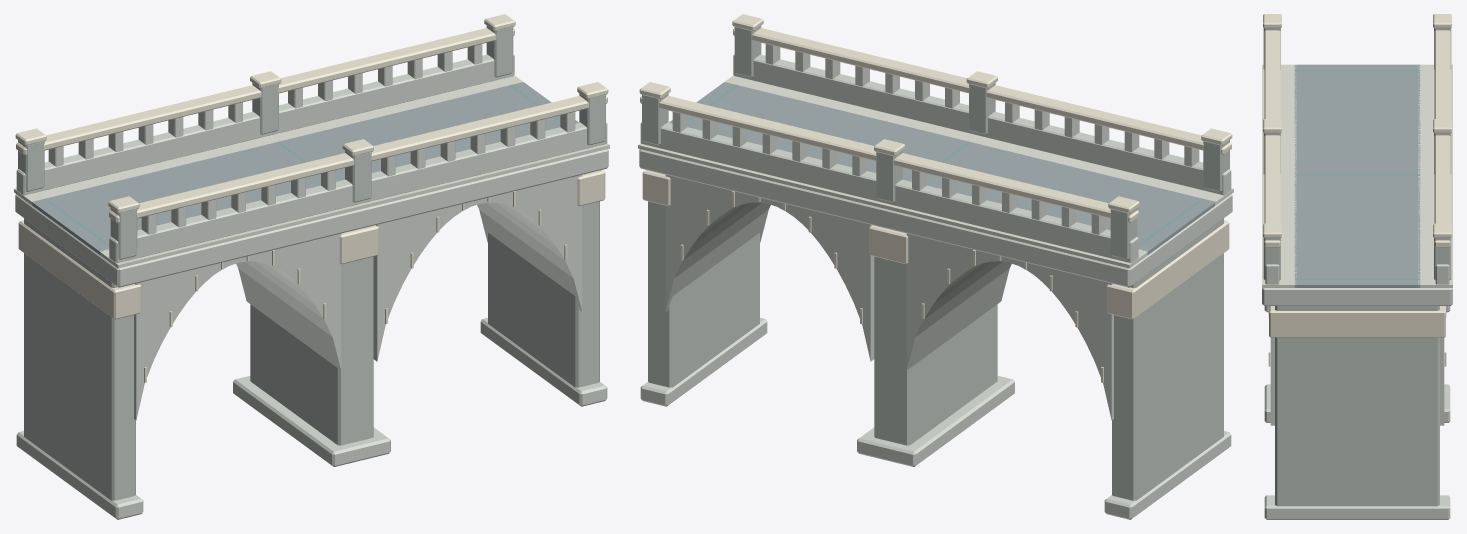
The model's file is bridge-road-1.glb.
3 renders of one model, left to right at view 1: azimuth 30°, elevation 25°; view 2: azimuth 150°, elevation 25°; view 3: azimuth 270°, elevation 25°, orthographic. The views are drawn at different scales.
Visible parts, largest first — view 1: bridge-road-1_concrete; view 2: bridge-road-1_concrete; view 3: bridge-road-1_concrete, bridge-road-1_steel.
Part boxes in pixels (x1=…): bridge-road-1_concrete: x1=14, y1=14, x2=609, y2=519; bridge-road-1_concrete: x1=638, y1=14, x2=1233, y2=519; bridge-road-1_concrete: x1=1262, y1=14, x2=1452, y2=519; bridge-road-1_steel: x1=1295, y1=70, x2=1419, y2=279.
Size of the model in its own units: 6 by 3.66 by 2.2.
2 materials, 2 textured.
